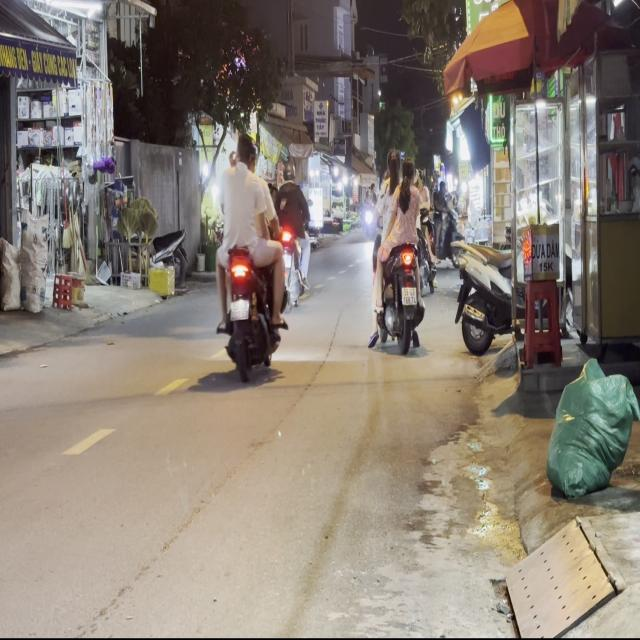licenseplate: (211, 130, 287, 381), (368, 149, 426, 353)
motorcyclist: (234, 132, 255, 170), (385, 149, 400, 181), (400, 157, 414, 183)
nohelmet: (230, 299, 248, 318), (402, 286, 416, 304)
